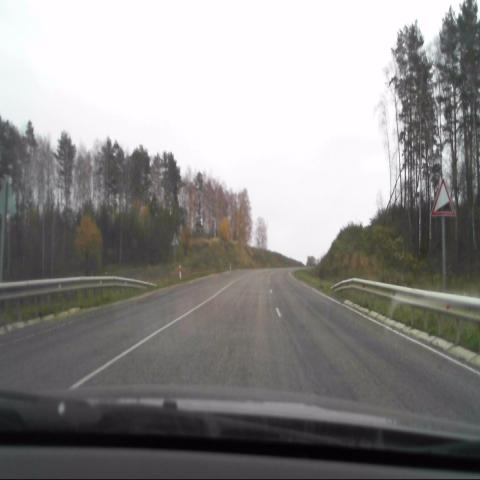1_14: (432, 178, 456, 217)
